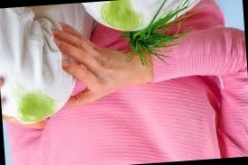earth: (101, 0, 140, 30), (19, 92, 53, 120)
